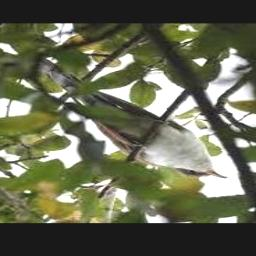Cuckoo: (36, 60, 227, 180)
